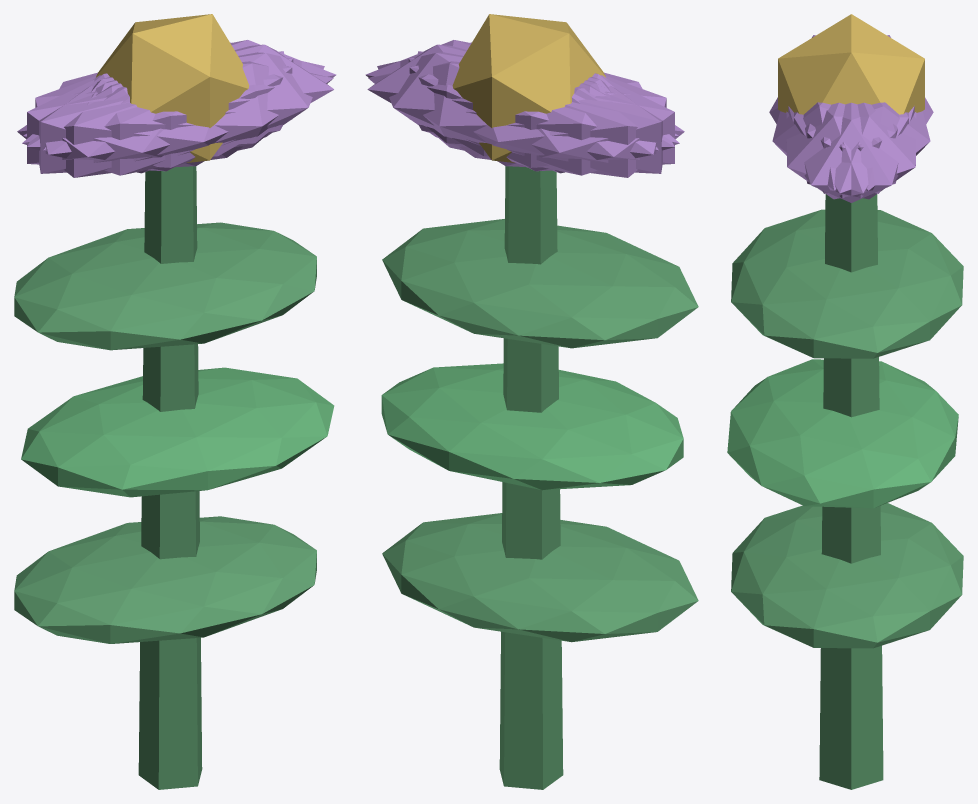
File: pometia-pinnata.glb
The picture shows the model from 3 angles, left to right: view 1: azimuth 30°, elevation 25°; view 2: azimuth 150°, elevation 25°; view 3: azimuth 270°, elevation 25°; orthographic projection.
Parts seen in each view (by area): view 1: leaf1, leaf2, leaf0, stem, center, petal1, petal6, petal2, petal5, petal7, petal0, petal4 (+2 smaller); view 2: leaf2, leaf0, leaf1, stem, center, petal8, petal3, petal7, petal4, petal2, petal0, petal5 (+2 smaller); view 3: leaf2, leaf1, leaf0, stem, center, petal0, petal5, petal4, petal1, petal8.
Boxes of the visible parts, x1=… form: leaf1: x1=21, y1=367, x2=334, y2=497; leaf2: x1=14, y1=222, x2=316, y2=350; leaf0: x1=14, y1=516, x2=316, y2=643; stem: x1=138, y1=166, x2=202, y2=789; center: x1=96, y1=14, x2=249, y2=162; petal1: x1=22, y1=61, x2=333, y2=175; petal6: x1=17, y1=75, x2=242, y2=177; petal2: x1=39, y1=51, x2=284, y2=173; petal5: x1=43, y1=52, x2=324, y2=167; petal7: x1=27, y1=58, x2=293, y2=171; petal0: x1=95, y1=44, x2=333, y2=156; petal4: x1=23, y1=40, x2=336, y2=147; leaf2: x1=382, y1=219, x2=698, y2=348; leaf0: x1=382, y1=513, x2=698, y2=642; leaf1: x1=381, y1=363, x2=683, y2=490; stem: x1=499, y1=166, x2=563, y2=789; center: x1=452, y1=14, x2=605, y2=162; petal8: x1=368, y1=61, x2=679, y2=175; petal3: x1=459, y1=75, x2=684, y2=177; petal7: x1=417, y1=51, x2=662, y2=173; petal4: x1=377, y1=52, x2=658, y2=167; petal2: x1=408, y1=58, x2=674, y2=171; petal0: x1=367, y1=44, x2=606, y2=156; petal5: x1=365, y1=40, x2=678, y2=147; leaf2: x1=731, y1=209, x2=963, y2=358; leaf1: x1=727, y1=359, x2=958, y2=508; leaf0: x1=731, y1=503, x2=963, y2=648; stem: x1=819, y1=194, x2=883, y2=789; center: x1=778, y1=14, x2=924, y2=114; petal0: x1=788, y1=102, x2=914, y2=202; petal5: x1=786, y1=102, x2=908, y2=199; petal4: x1=794, y1=102, x2=916, y2=199; petal1: x1=772, y1=102, x2=897, y2=190; petal8: x1=805, y1=102, x2=930, y2=190.
Bounding box in the file's own units: 0.1469 × 0.3409 × 0.0983.
